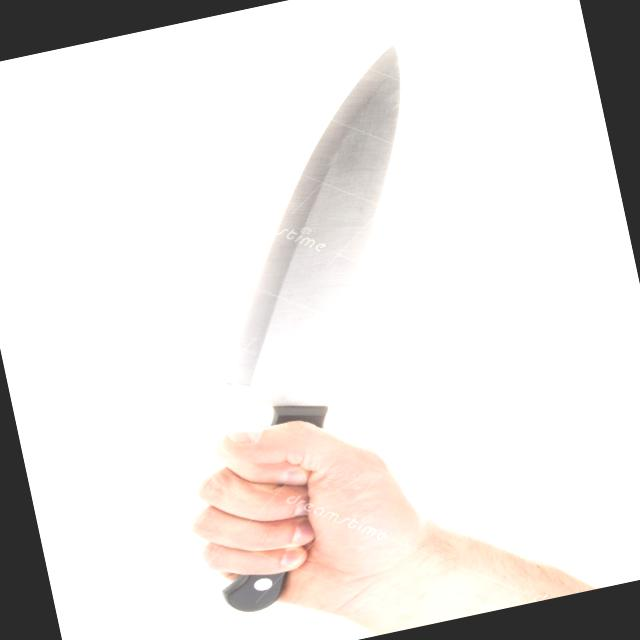knife: (100, 27, 510, 572)
